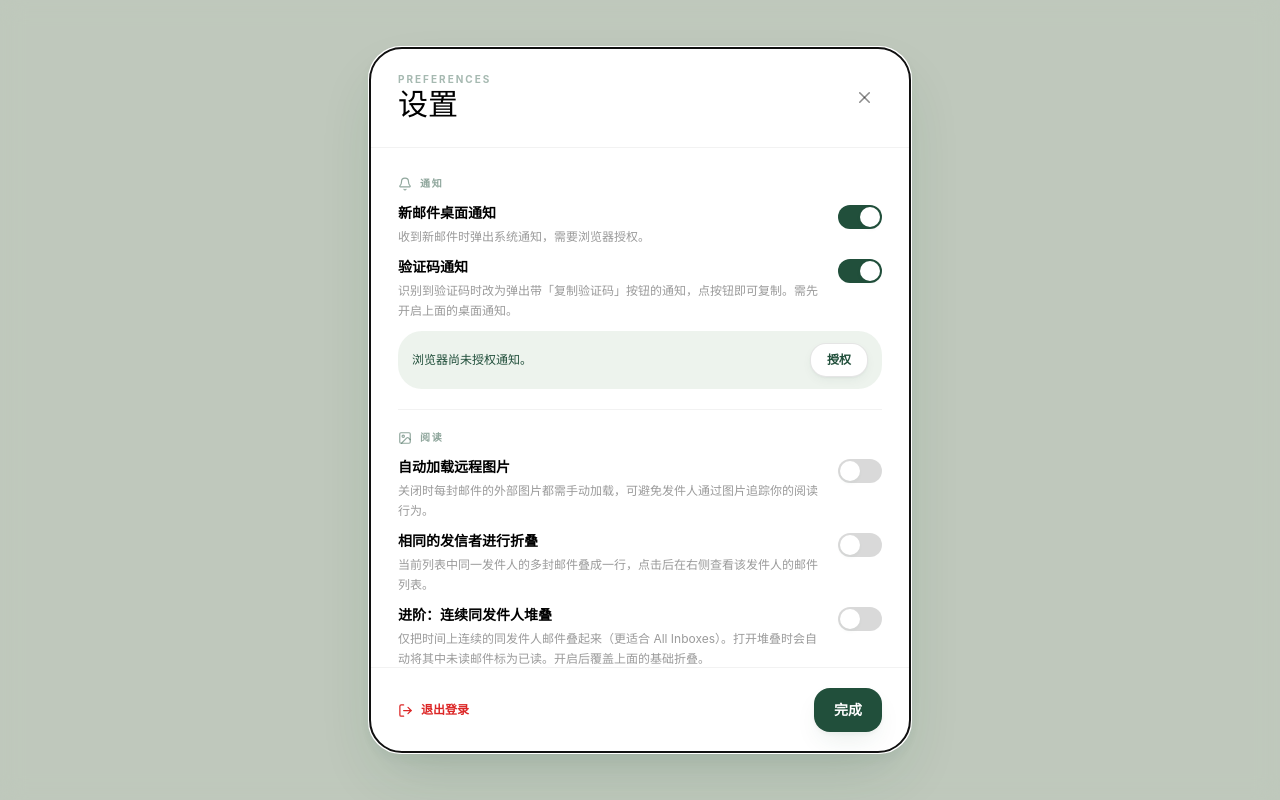
Scenario: settings dialog › replaces the prompt with the explanation when the request throws
Click the button "授权".
click(839, 360)  # box [810,343,868,377]
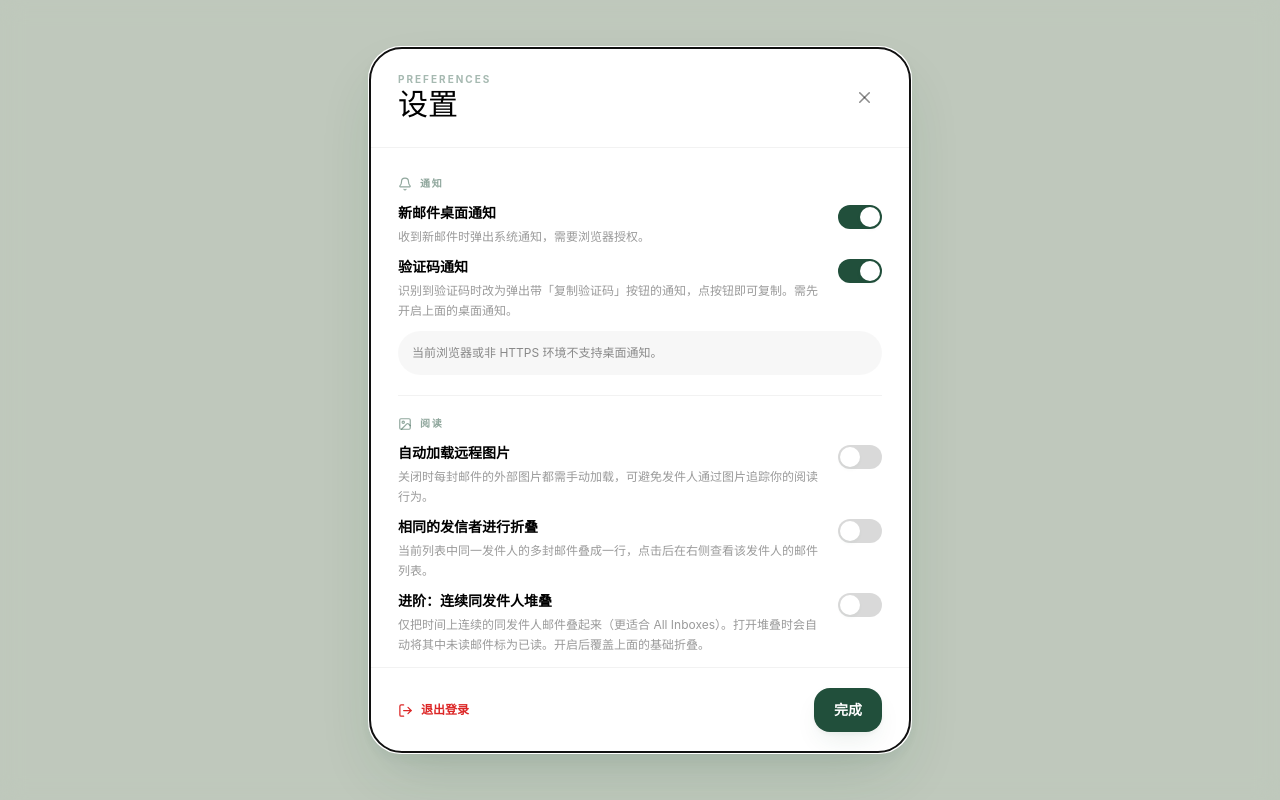
Result: the text "当前浏览器或非 HTTPS 环境不支持桌面通知。" is shown at [398,331,882,375]
